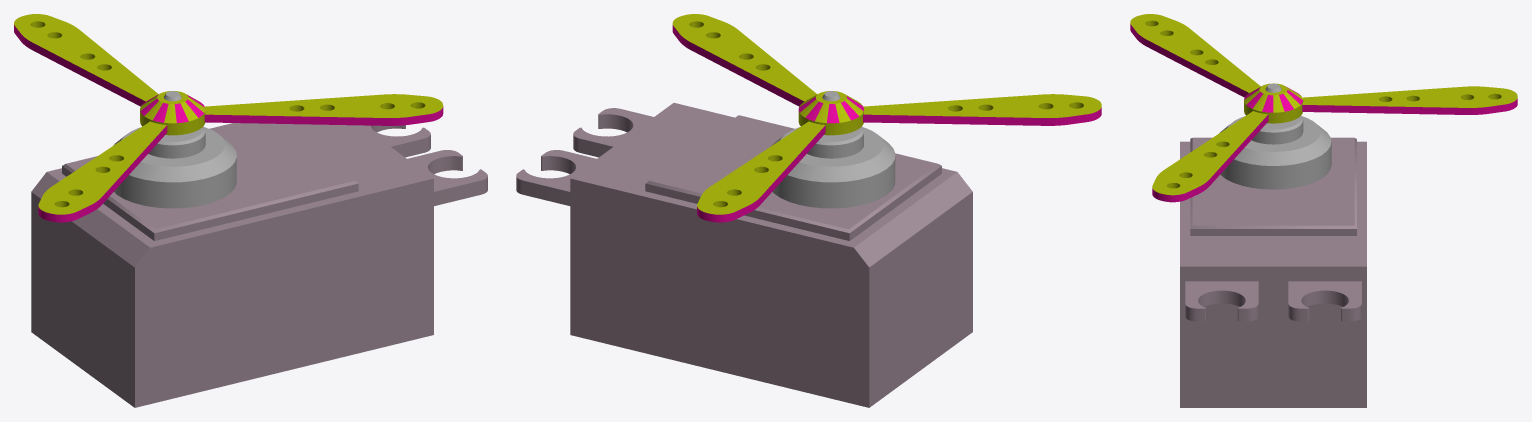
Rendered from servo_motor_new.gltf.
3 views of the same model, side by side, from view 1: azimuth 30°, elevation 25°; view 2: azimuth 150°, elevation 25°; view 3: azimuth 270°, elevation 25° (orthographic). The views are drawn at different scales.
Parts seen in each view (by area): view 1: body, wing; view 2: body, wing; view 3: body, wing.
Boxes of the visible parts, x1,y1,x2,y2 form: body: (31, 123, 487, 407); wing: (14, 14, 443, 222); body: (516, 103, 972, 407); wing: (672, 14, 1101, 222); body: (1180, 116, 1366, 407); wing: (1130, 14, 1517, 202).
Size of the model in its own units: 3.15 by 1.62 by 2.49.
